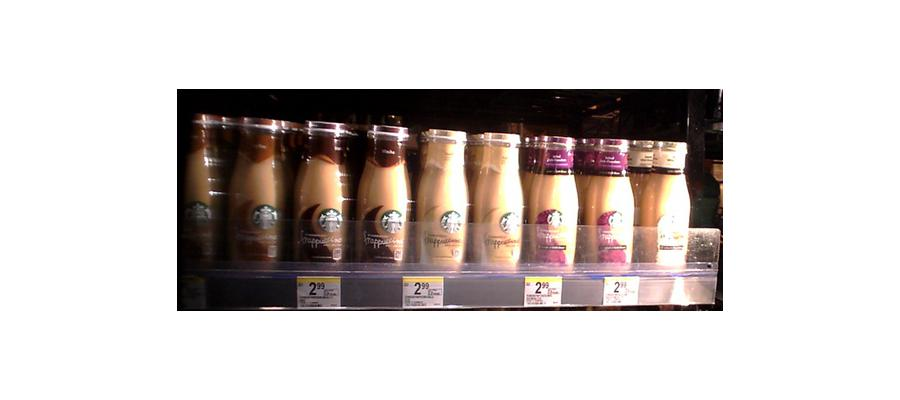bottle: (219, 113, 287, 269), (288, 114, 353, 270), (353, 113, 411, 272), (411, 126, 468, 274), (579, 121, 635, 271), (469, 128, 525, 274), (524, 127, 579, 271), (637, 143, 691, 273)
